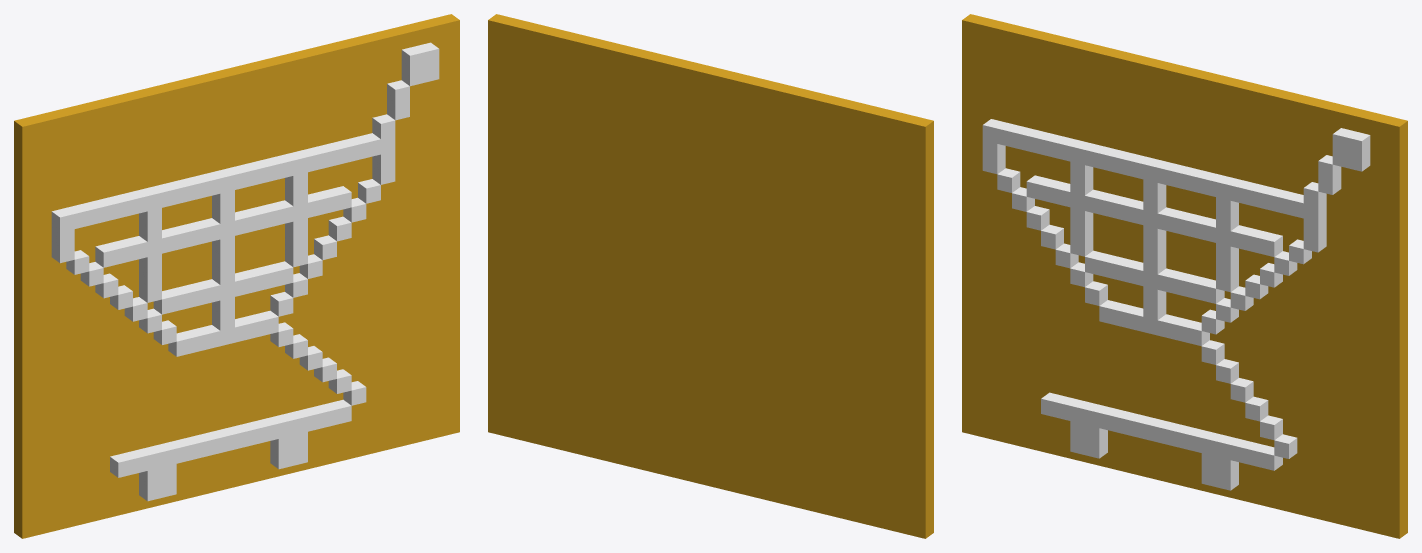
The model's file is ShoppingCart-Variant.dae.
The picture shows the model from 3 angles, left to right: view 1: azimuth 30°, elevation 25°; view 2: azimuth 150°, elevation 25°; view 3: azimuth 330°, elevation 25°; orthographic projection.
Visible parts, largest first — view 1: Matrix; view 2: Matrix; view 3: Matrix.
Boxes of the visible parts, left/top/right/bottom form: Matrix: left=14, top=14, right=459, bottom=538; Matrix: left=488, top=14, right=933, bottom=538; Matrix: left=962, top=14, right=1407, bottom=538.
Bounding box in the file's own units: 30 × 27 × 2.
Materials: 1 (1 with a texture image).
